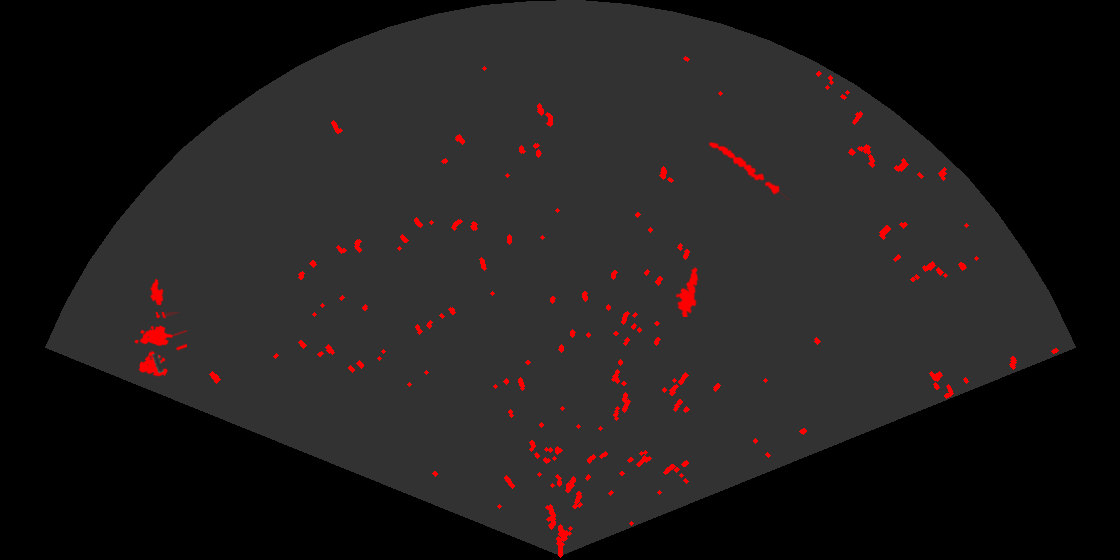AUV: (149, 277, 165, 307)
cage: (133, 312, 187, 378)
chain: (707, 140, 791, 200)
frogman: (674, 266, 700, 317)
